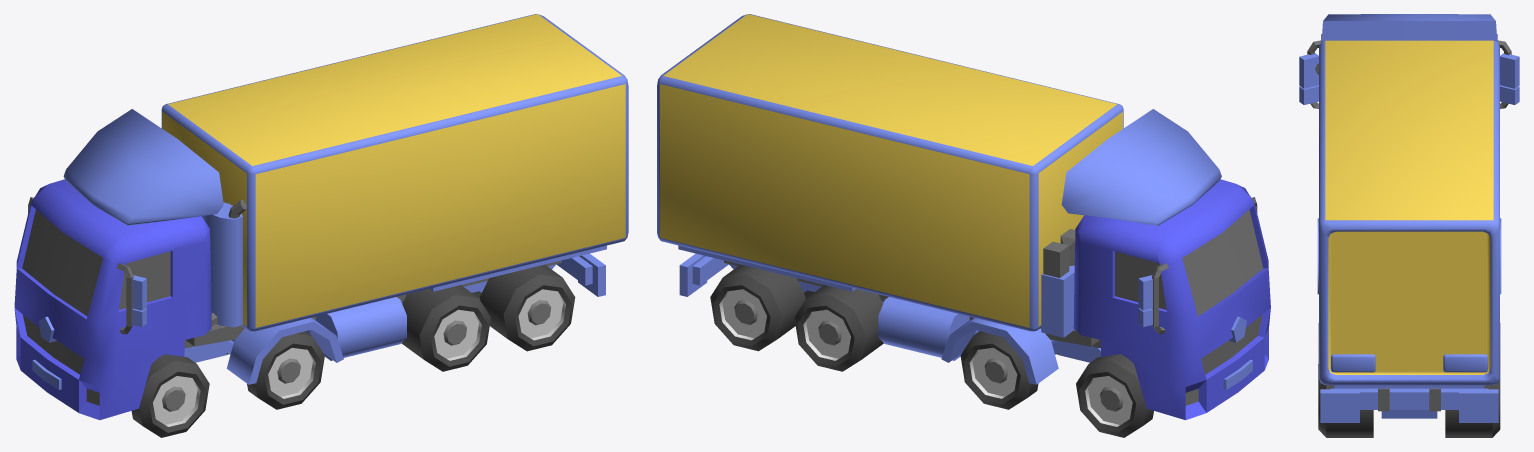
The model's file is Truck_01a.fbx.
3 renders of one model, left to right at view 1: azimuth 30°, elevation 25°; view 2: azimuth 150°, elevation 25°; view 3: azimuth 270°, elevation 25°, orthographic.
Visible parts, largest first — view 1: Truck_01a; view 2: Truck_01a; view 3: Truck_01a.
Part boxes in pixels (x1,y1,x2,y2): Truck_01a: [14, 14, 628, 437]; Truck_01a: [657, 14, 1270, 437]; Truck_01a: [1299, 14, 1519, 437].
Size of the model in its own units: 1153 by 522 by 408.
